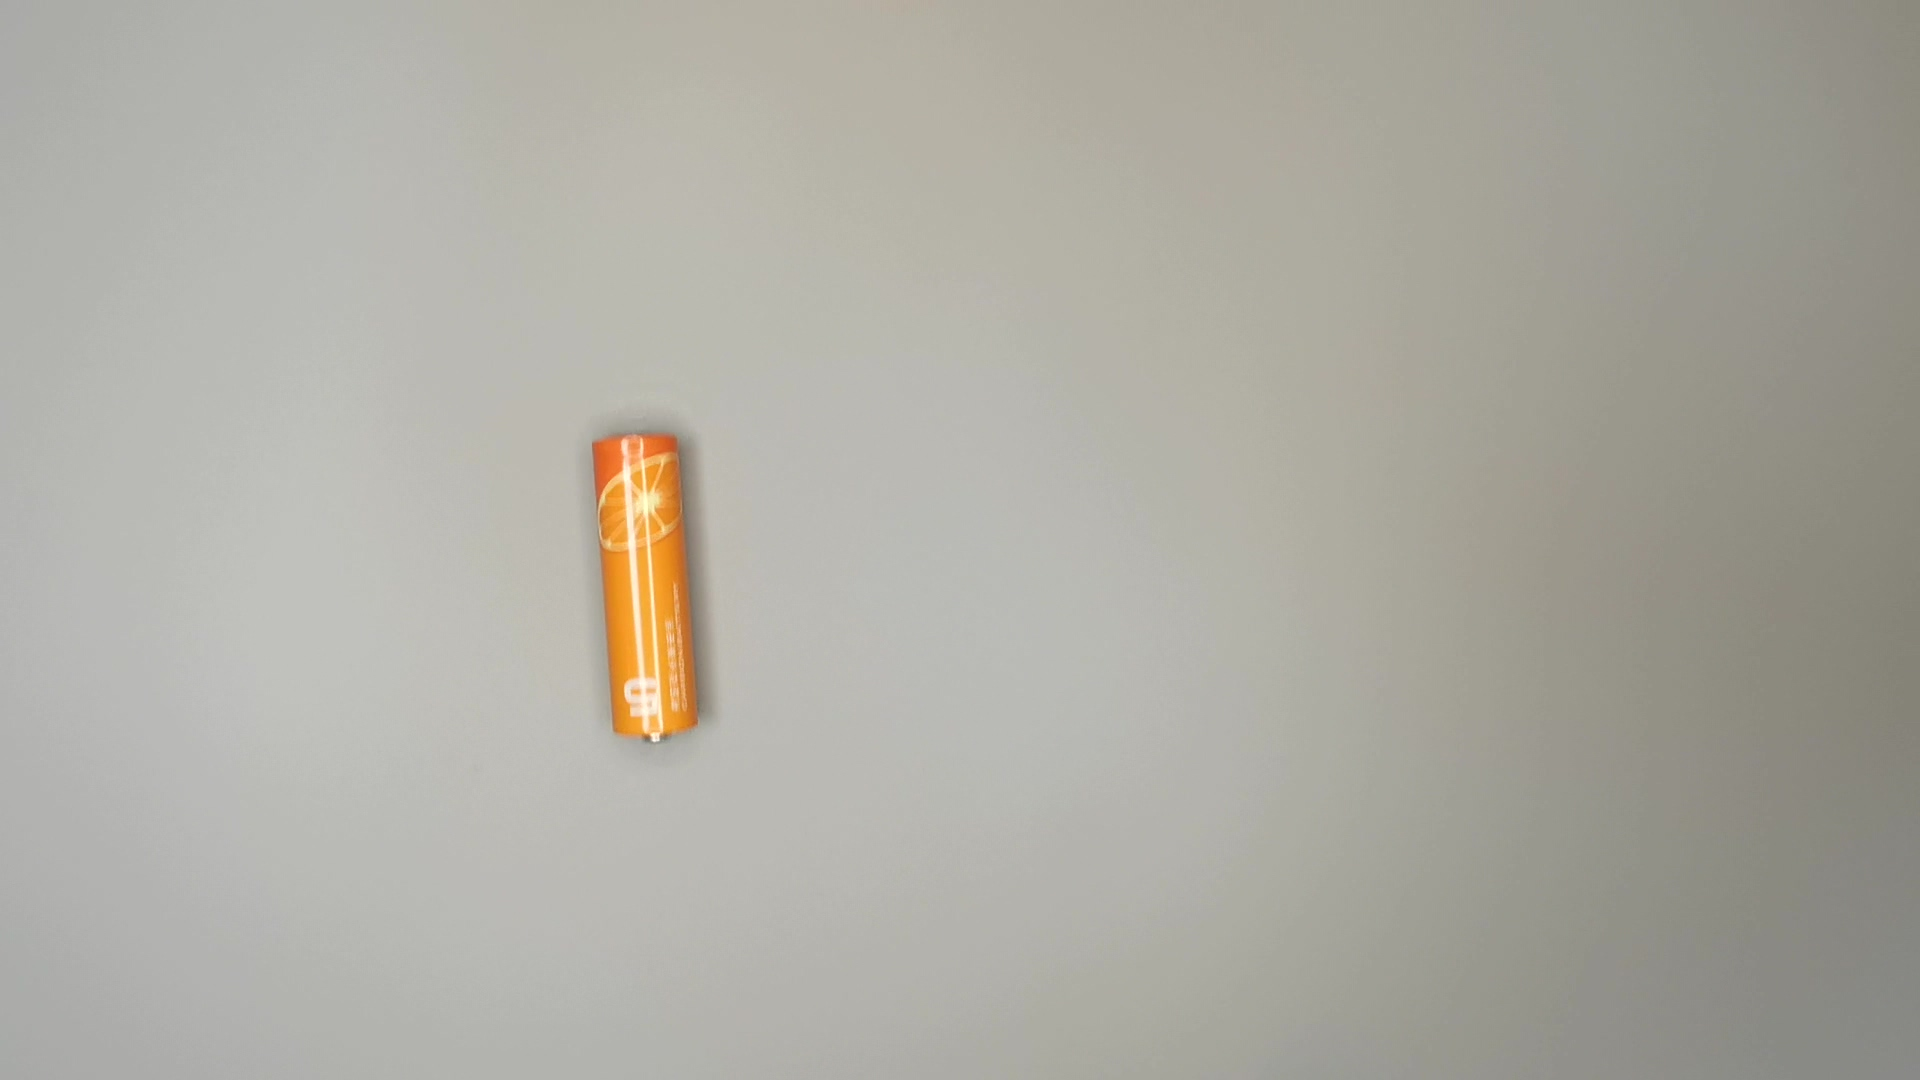battery: (585, 422, 712, 745)
